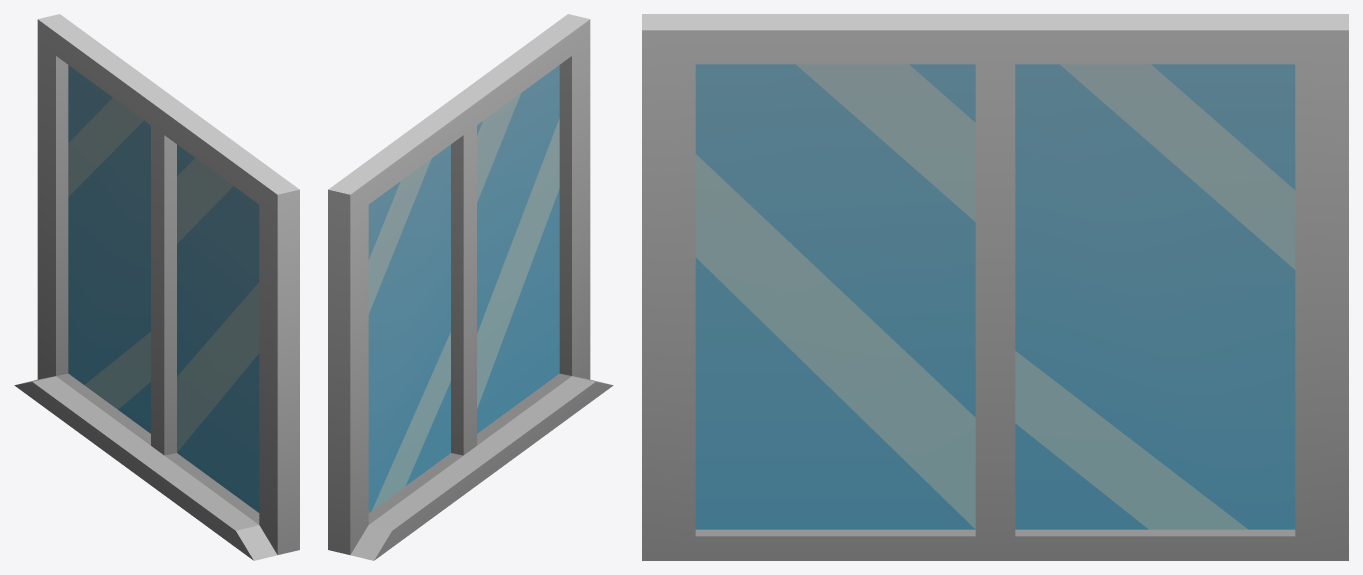
Rendered from SchoolPack2023Window2.fbx.
3 renders of one model, left to right at view 1: azimuth 30°, elevation 25°; view 2: azimuth 150°, elevation 25°; view 3: azimuth 270°, elevation 25°, orthographic. The views are drawn at different scales.
Visible parts, largest first — view 1: Cube.035; view 2: Cube.035; view 3: Cube.035.
Part boxes in pixels (<box>): Cube.035: <box>14,14,299,560</box>; Cube.035: <box>328,14,613,560</box>; Cube.035: <box>642,14,1348,560</box>.
Bounding box in the file's own units: 38.17 × 287 × 347.
